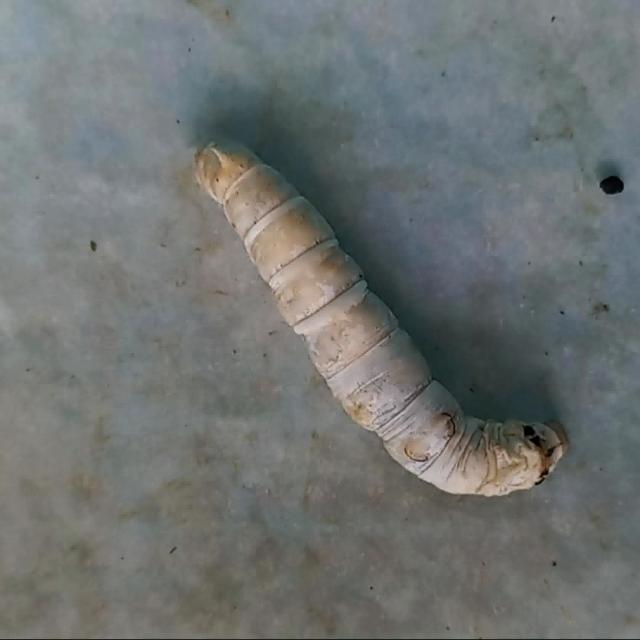Grasserie: (190, 132, 578, 511)
